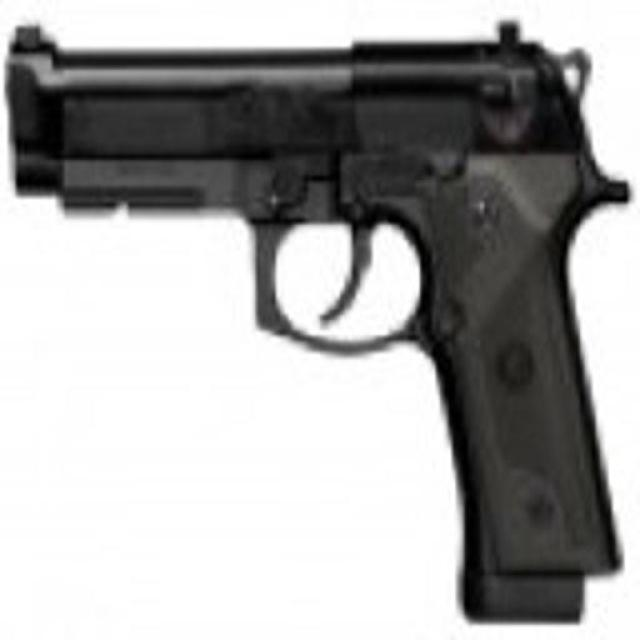pistol: (8, 10, 624, 629)
